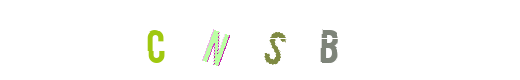B: (257, 0, 337, 80)
C: (115, 0, 195, 80)
N: (176, 0, 256, 80)
S: (220, 0, 300, 80)
